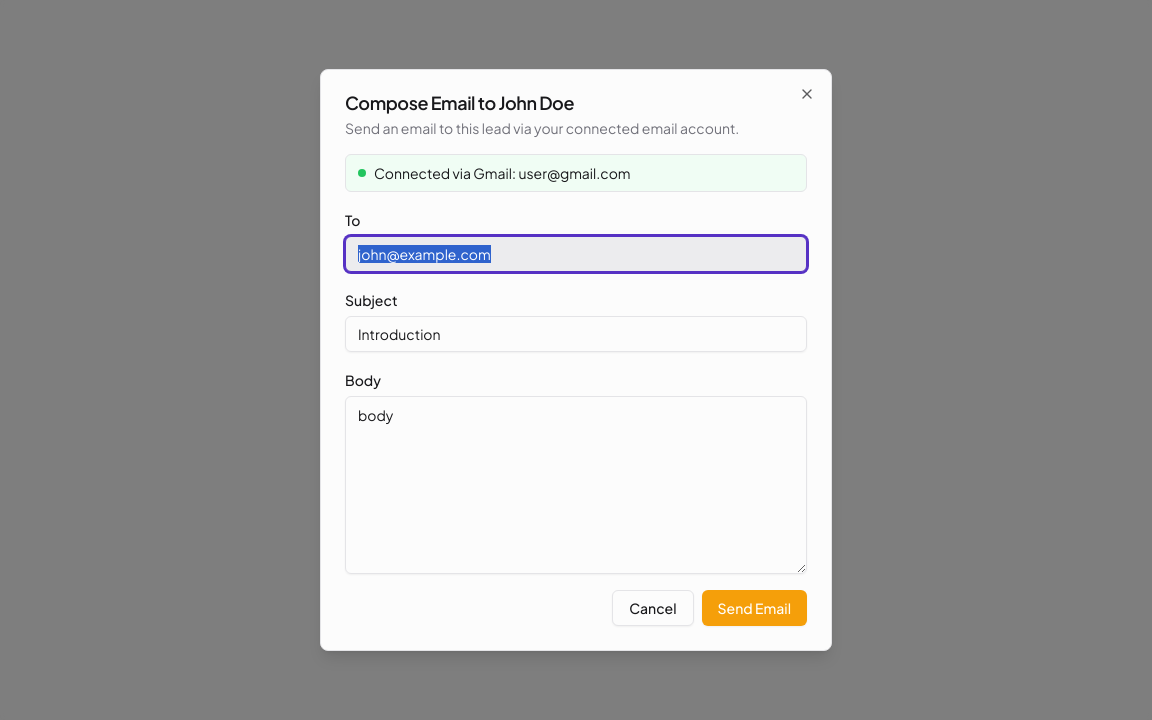
it: ComposeEmailModal › error types render correct Failure_Alert messages › shows THROTTLE_LIMIT error message with limit
What coordinates should you click on to do the following:
click the button "Send Email"
I would click on:
 (754, 608)
Its box is [702,590,807,626].
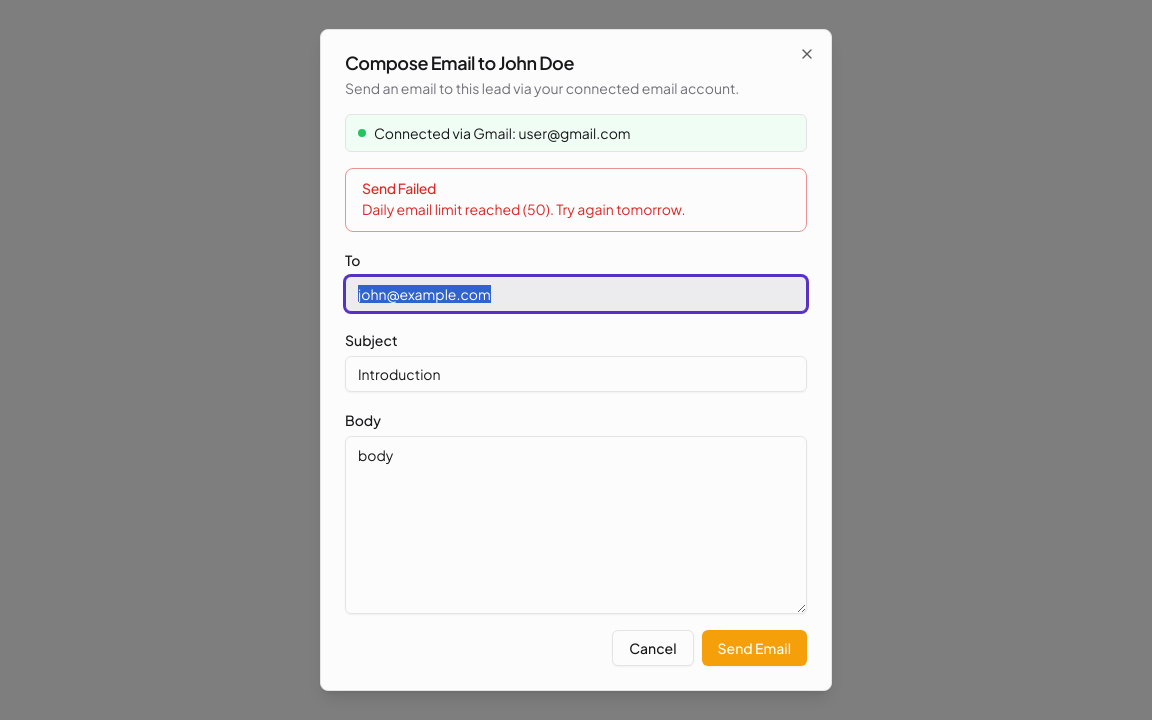
Check: the heading "Send Failed" is shown, box [362,179,436,197]
Check: the text "Daily email limit reached (50). Try again tomorrow." is shown, box [362,200,685,218]
